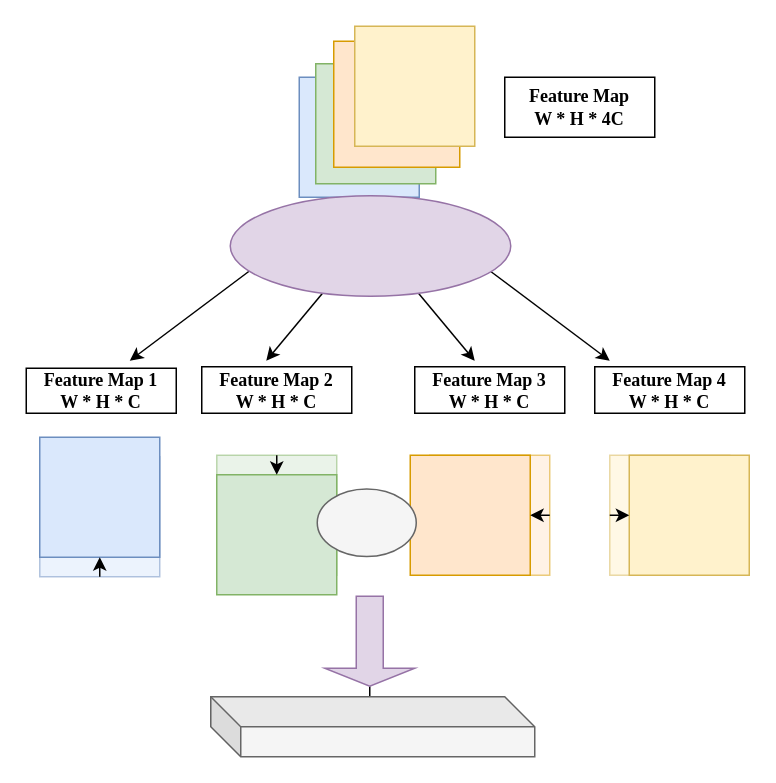
Some shapes in this 776 by 783 pixel diagram are drawn without their labels. Here are the shapes that lost their labels. From the top down, the centre of each, then its label:
the point at 370,245: Random/Deterministic/Learned Assignment
the point at 366,522: Jittering
the point at 372,726: CNN Layer
